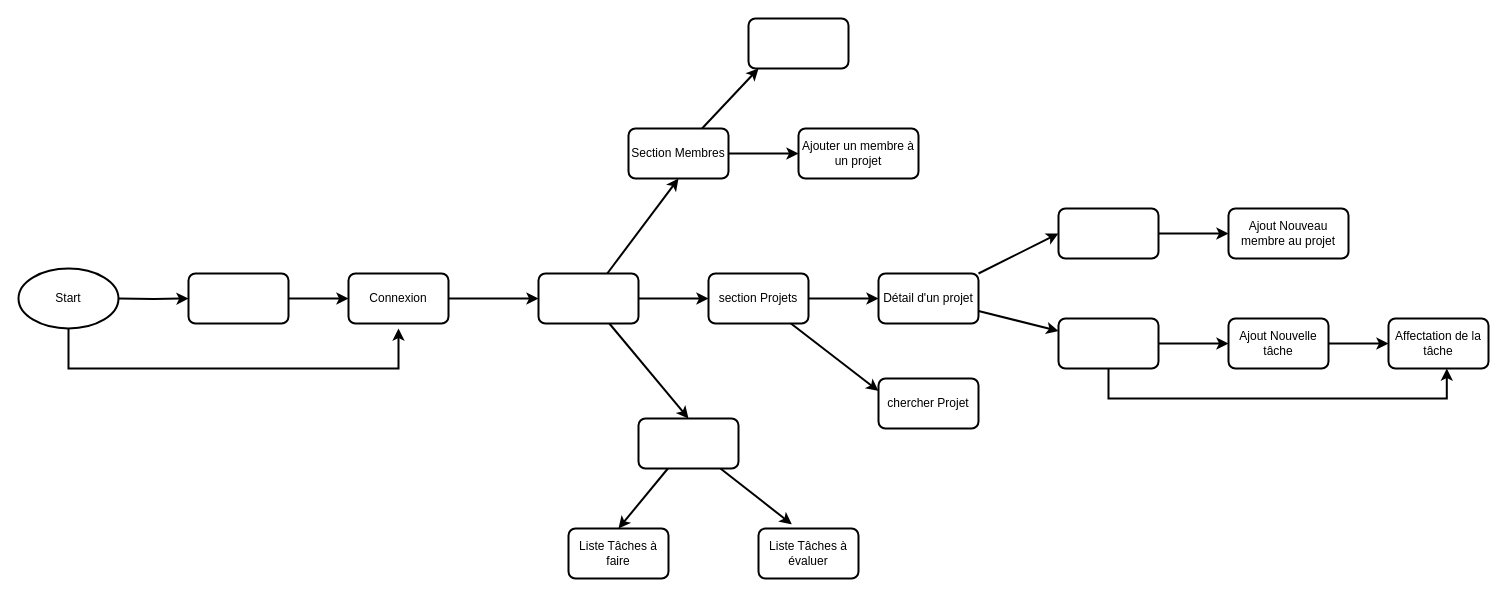
This 1506x596 diagram has some shape labels left out. The centre of each missing label's shape, as x and y in pixels:
chercher Membre: (x=798, y=43)
Inscription: (x=238, y=298)
Liste membres: (x=1108, y=233)
Liste tâches: (x=1108, y=343)
Section Tâches: (x=688, y=443)
Tableau de bord: (x=588, y=298)
